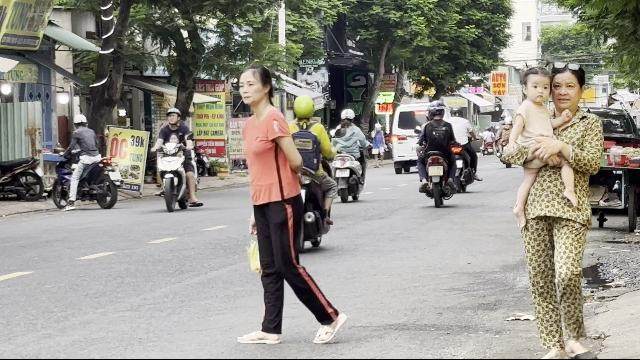helmet: (292, 94, 314, 121), (165, 106, 181, 126), (72, 114, 88, 128)
motorcyclist: (276, 90, 336, 254), (49, 114, 121, 212), (150, 106, 200, 212)
